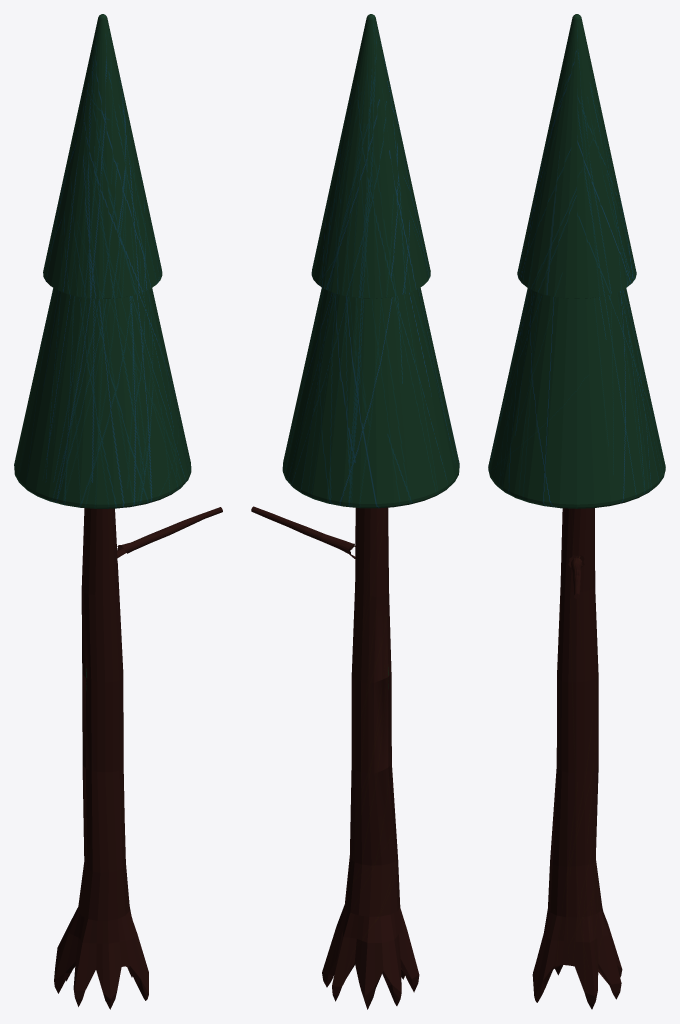
Rendered from tall_pine.obj.
3 renders of one model, left to right at view 1: azimuth 30°, elevation 25°; view 2: azimuth 150°, elevation 25°; view 3: azimuth 270°, elevation 25°, orthographic.
Parts seen in each view (by area): view 1: trunk_Cylinder; view 2: trunk_Cylinder; view 3: trunk_Cylinder.
Part boxes in pixels (left/top/right/bottom): trunk_Cylinder: left=14, top=14, right=222, bottom=1009; trunk_Cylinder: left=251, top=14, right=459, bottom=1009; trunk_Cylinder: left=488, top=14, right=665, bottom=1009.
Size of the model in its own units: 6.91 by 32.94 by 5.43.
